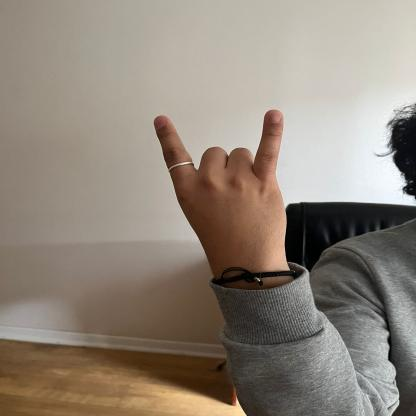U: (146, 104, 302, 274)
